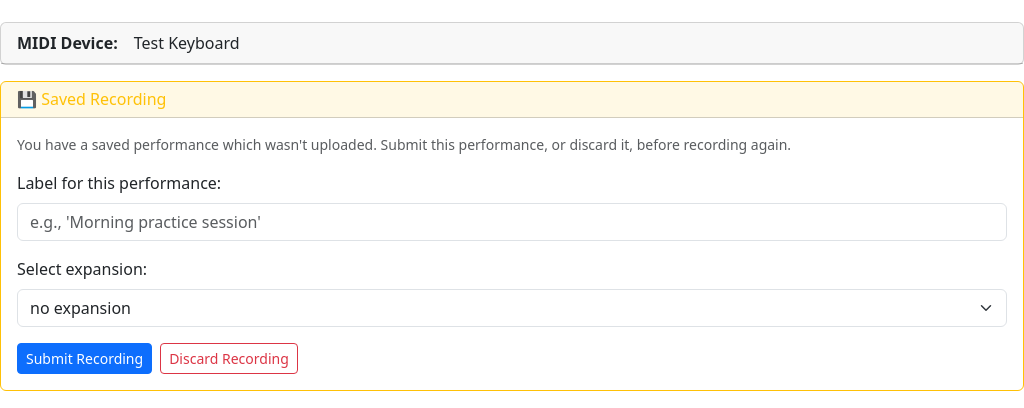
Test: recovery lifecycle › disables all recording controls for the duration of the request
The image size is (1024, 408).
Click the button "Submit Recording".
click(85, 359)  # box [17, 343, 152, 374]
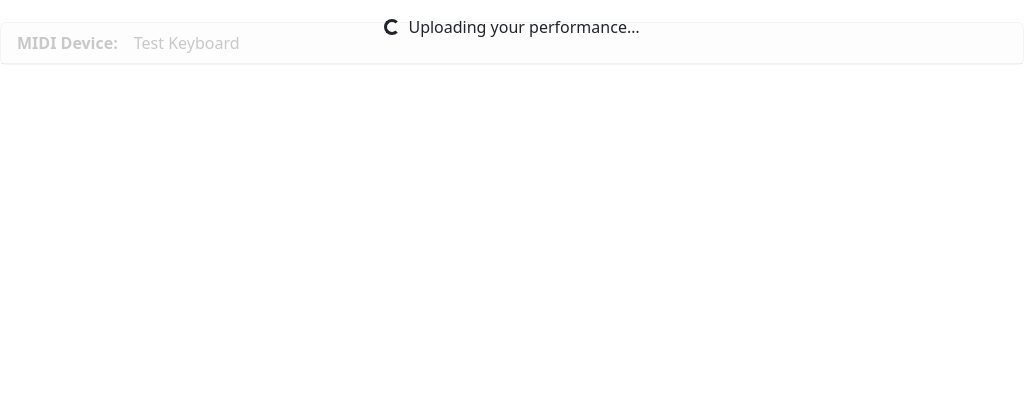
Now the element showing "MIDI Device: Test Keyboard" is disabled, box [0, 22, 1023, 65]
Now the button "Submit Recording" is gone
Now the button "Discard Recording" is gone
